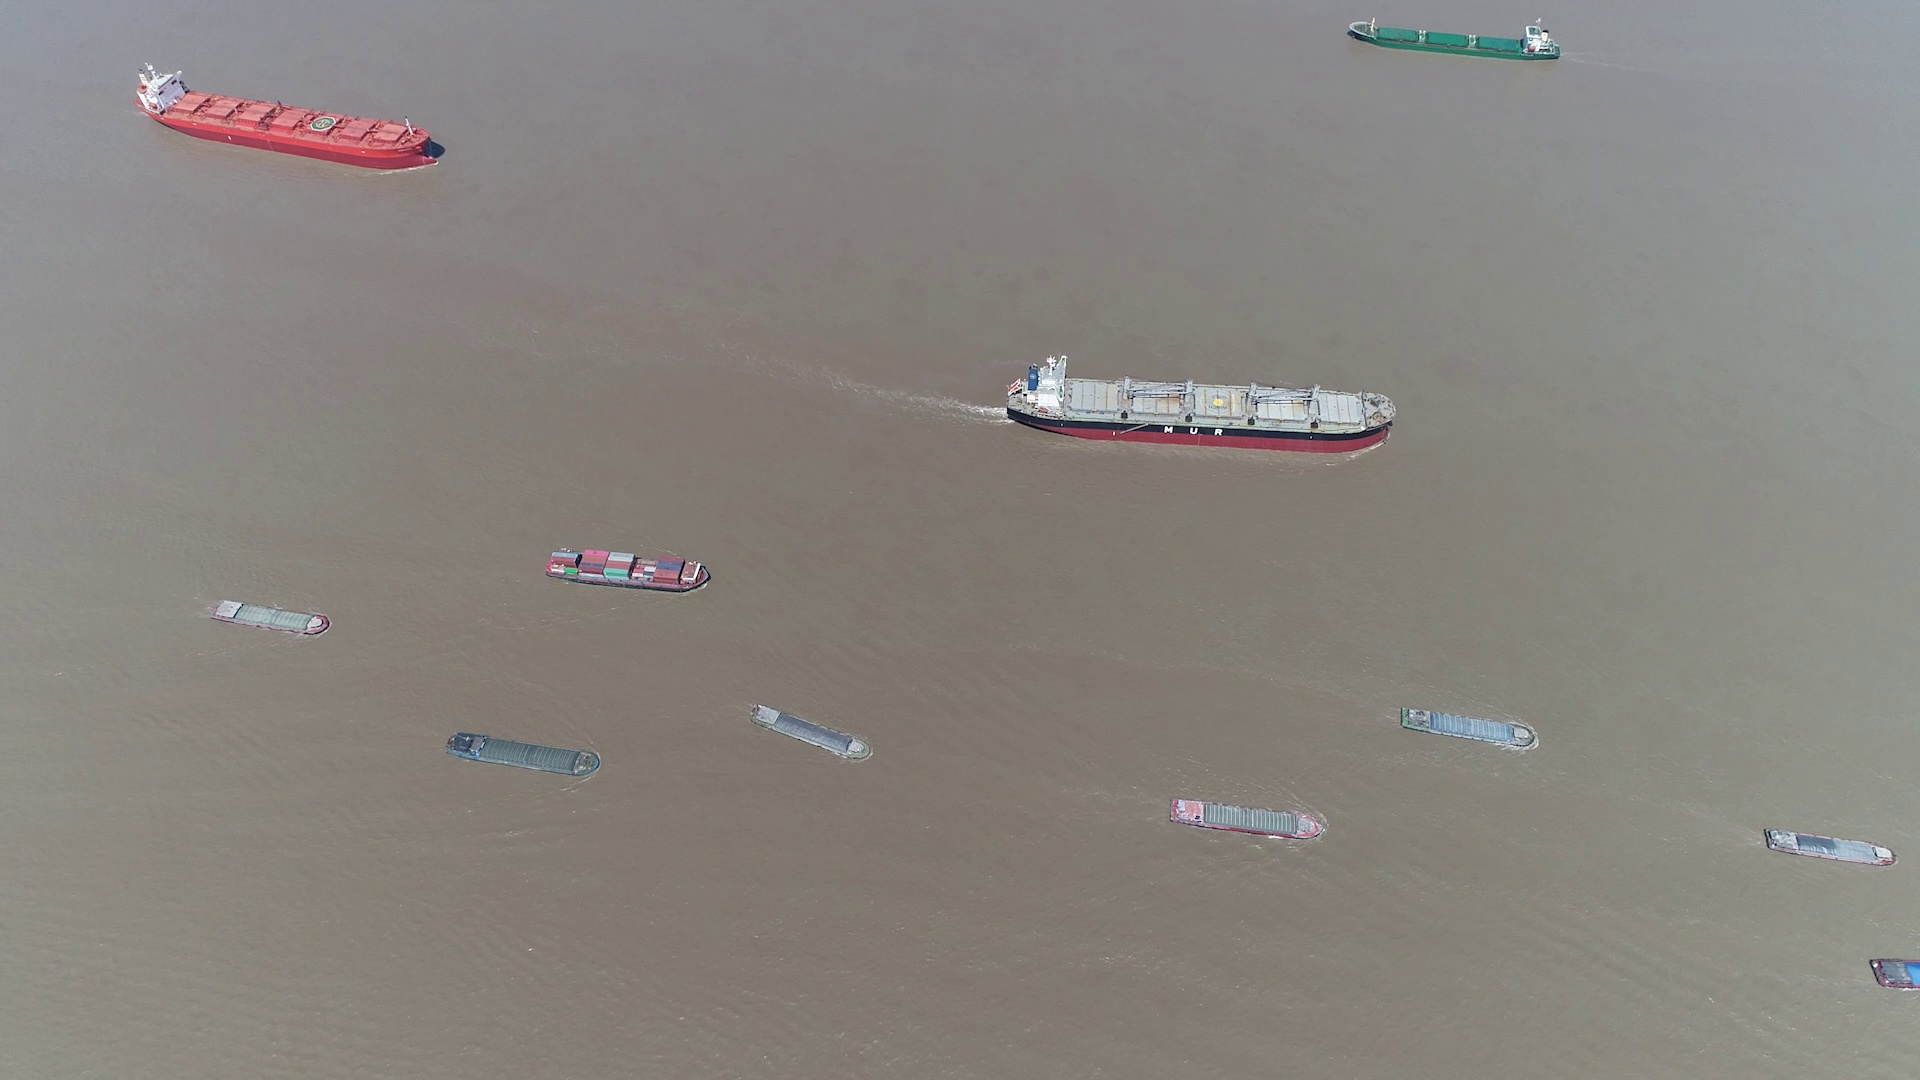ship: (1002, 357, 1393, 454), (140, 63, 440, 166), (1349, 18, 1559, 61), (752, 703, 874, 764), (545, 549, 711, 591), (448, 732, 601, 777), (1171, 796, 1327, 839), (1396, 705, 1539, 749), (1763, 828, 1894, 866), (207, 597, 328, 636), (1870, 957, 1917, 992)
